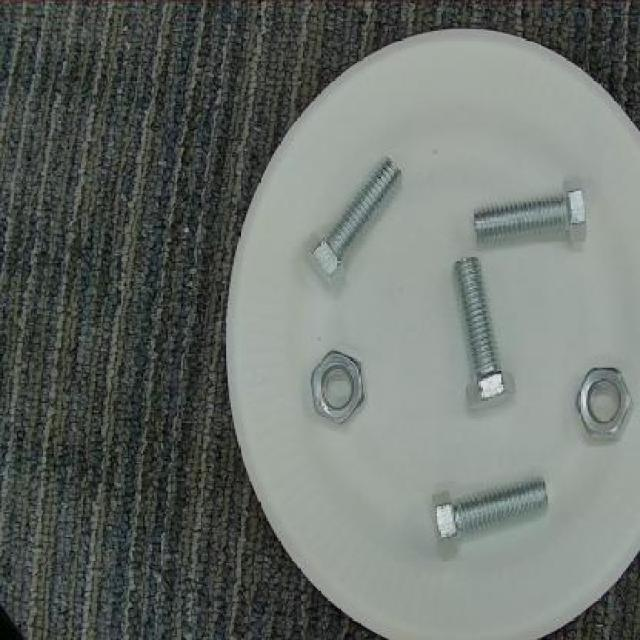Bolt: (303, 152, 404, 286), (448, 252, 519, 414), (427, 471, 551, 552), (471, 180, 594, 251)
Nut: (306, 346, 376, 425), (570, 362, 636, 443)
